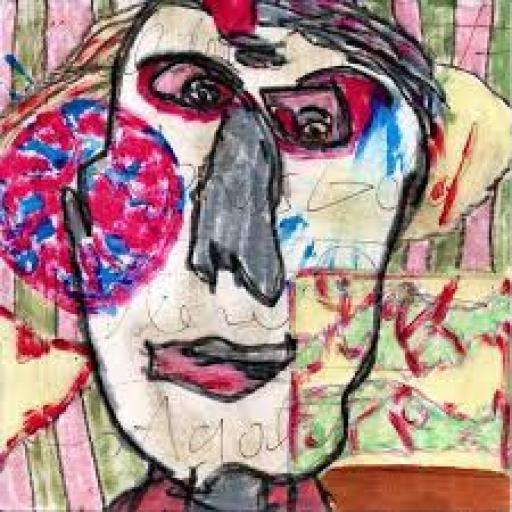person: (50, 0, 450, 510)
